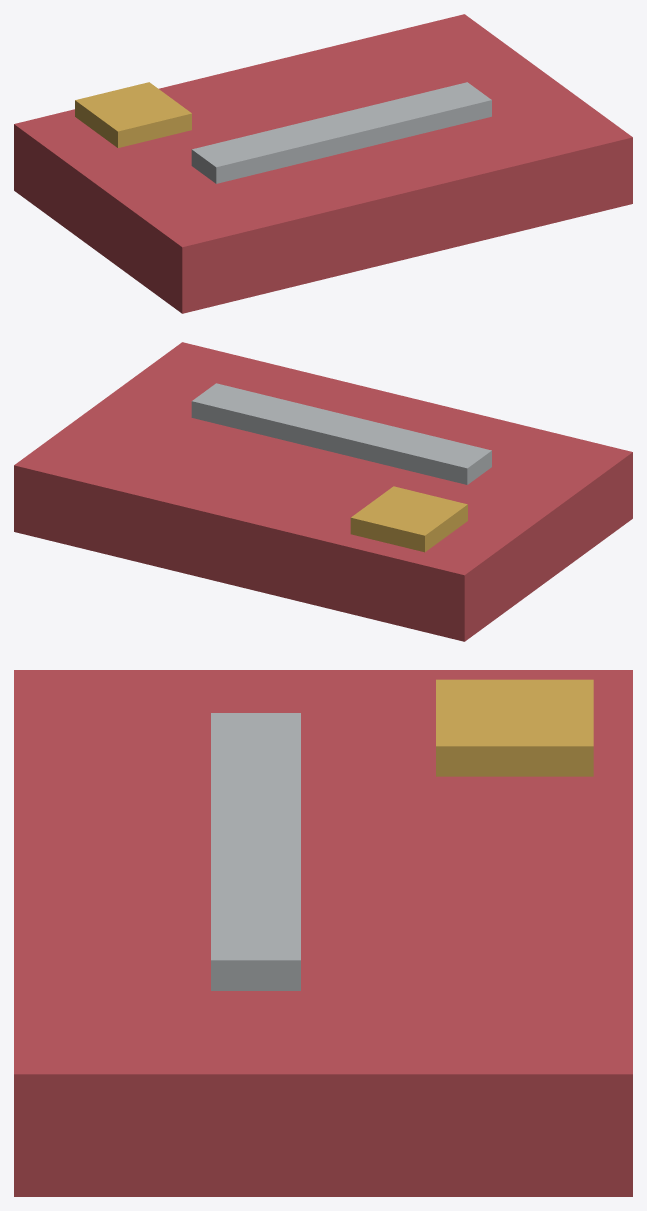
The model's file is interactable-keycard.glb.
3 views of the same model, one above another, from view 1: azimuth 30°, elevation 25°; view 2: azimuth 150°, elevation 25°; view 3: azimuth 270°, elevation 25° (orthographic). The views are drawn at different scales.
Parts seen in each view (by area): view 1: world; view 2: world; view 3: world.
Part boxes in pixels (bbox=[...]): world: bbox=[14, 14, 632, 313]; world: bbox=[14, 342, 632, 641]; world: bbox=[14, 670, 632, 1196].
Bounding box in the file's own units: 0.085 × 0.0155 × 0.055.
